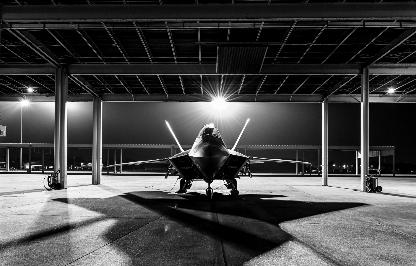F18: (106, 118, 310, 200)
